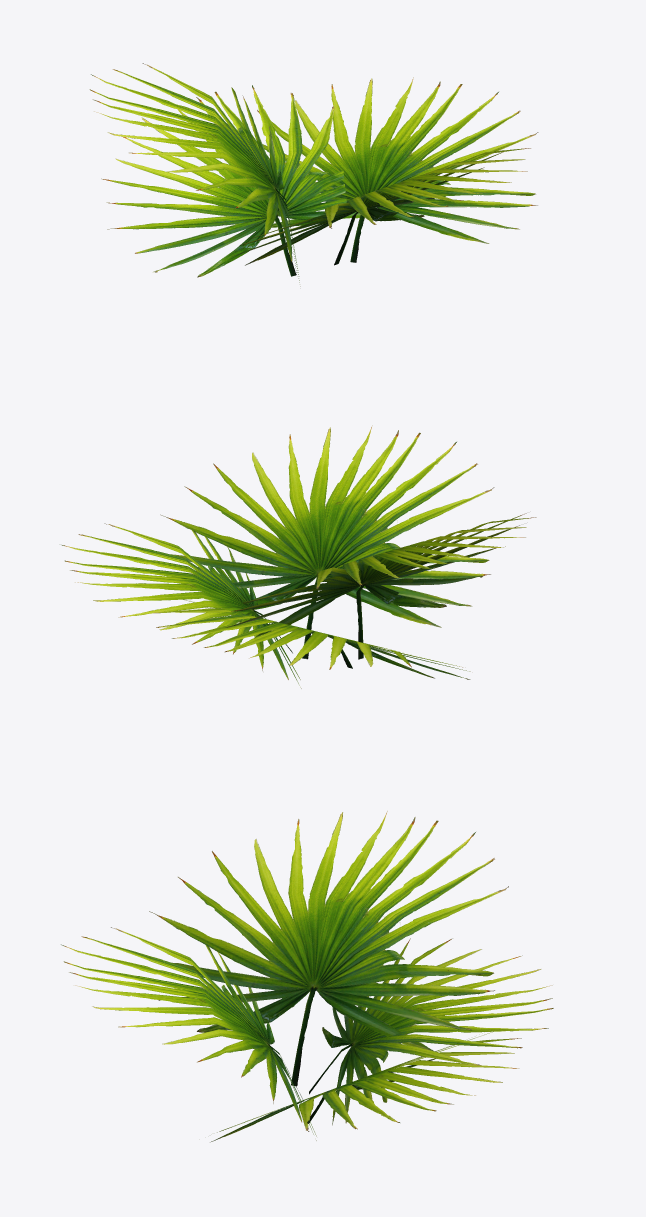
Rendered from palm foliage.dae.
3 views of the same model, one above another, from view 1: azimuth 30°, elevation 25°; view 2: azimuth 150°, elevation 25°; view 3: azimuth 270°, elevation 25° (orthographic). The views are drawn at different scales.
Visible parts, largest first — view 1: palm_foliage; view 2: palm_foliage; view 3: palm_foliage.
Boxes of the visible parts, box(x1,y1,x2,y2) form: palm_foliage: box(89, 63, 538, 286); palm_foliage: box(62, 425, 536, 688); palm_foliage: box(61, 811, 553, 1142).
Size of the model in its own units: 60.67 by 19.19 by 51.83.
1 material, 1 textured.
